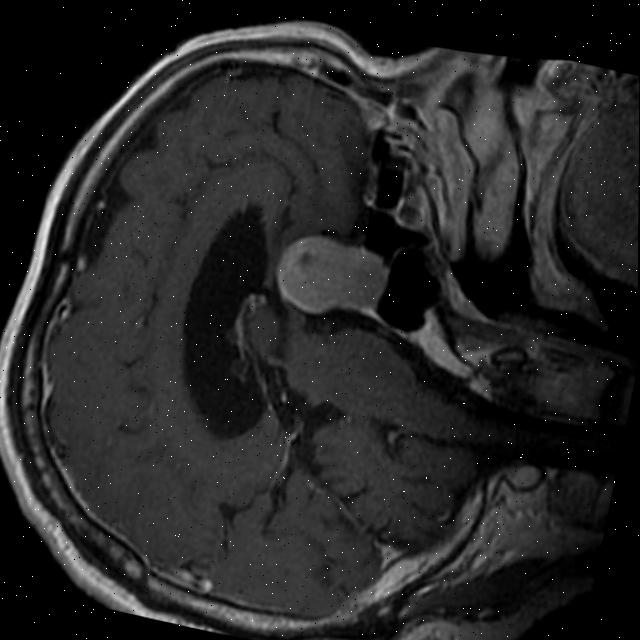Pituitary: (270, 224, 393, 328)
